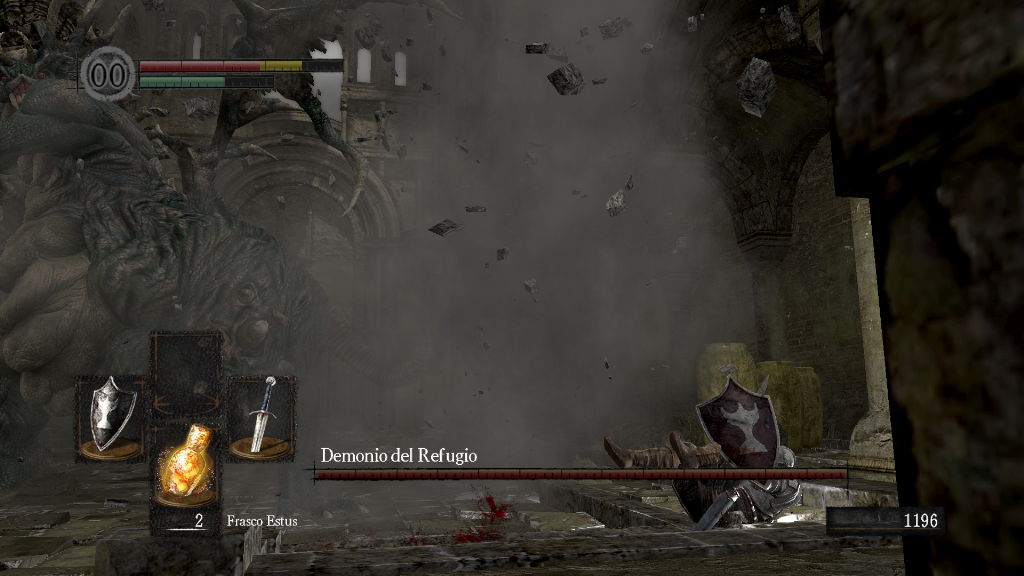asylumDemon: (2, 2, 361, 453)
bossHP: (314, 469, 847, 479)
health: (138, 58, 343, 71)
humanity: (80, 45, 136, 102)
player: (603, 377, 802, 528)
souls: (825, 506, 945, 536)
stamina: (138, 74, 274, 88)
